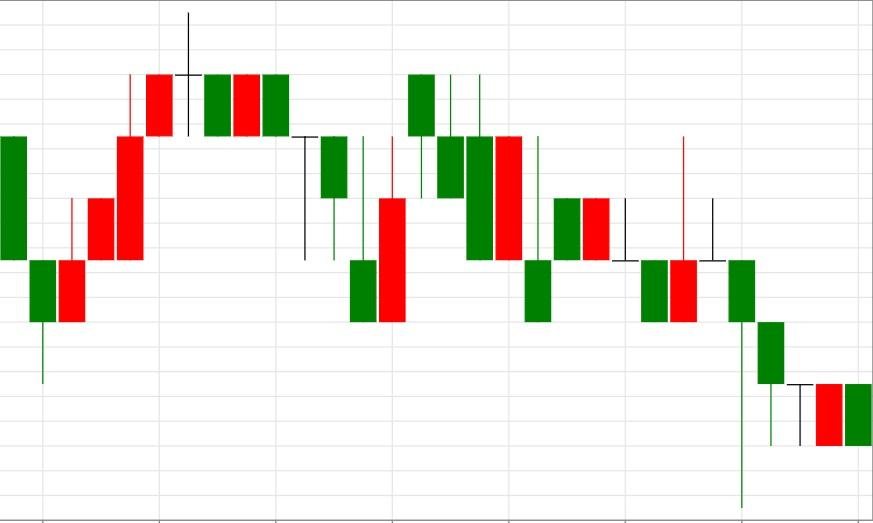bullish_engulfing_rise: (232, 74, 407, 323)
evening_star_fall: (28, 13, 232, 383)
inverse_hammer_rise: (407, 74, 552, 323)
